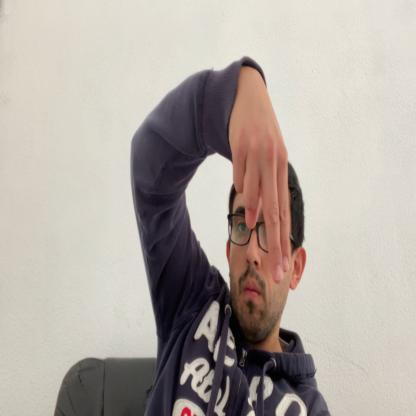N: (232, 66, 292, 282)
